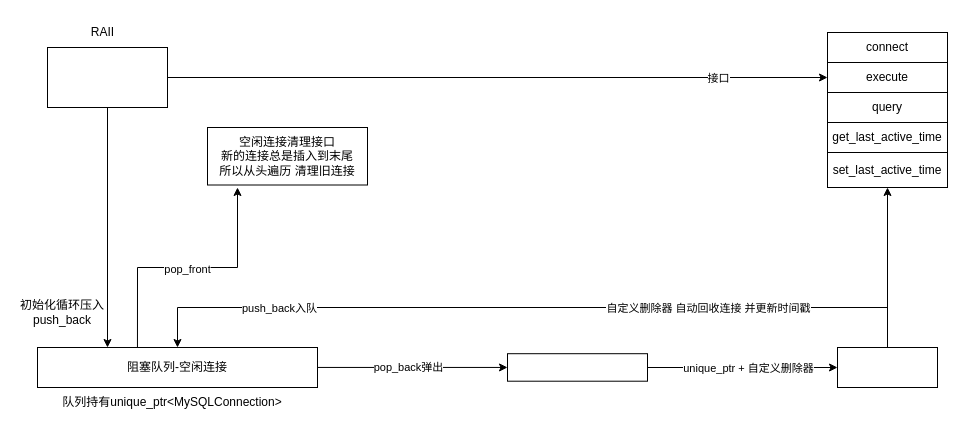
Some shapes in this 965 by 434 pixel diagram are drawn without their labels. Each missing label, with the box of its shape:
get_connection接口: (506, 353, 648, 381)
使用者: (836, 346, 938, 388)
数据连接类 MySQLConnection: (46, 46, 168, 108)
